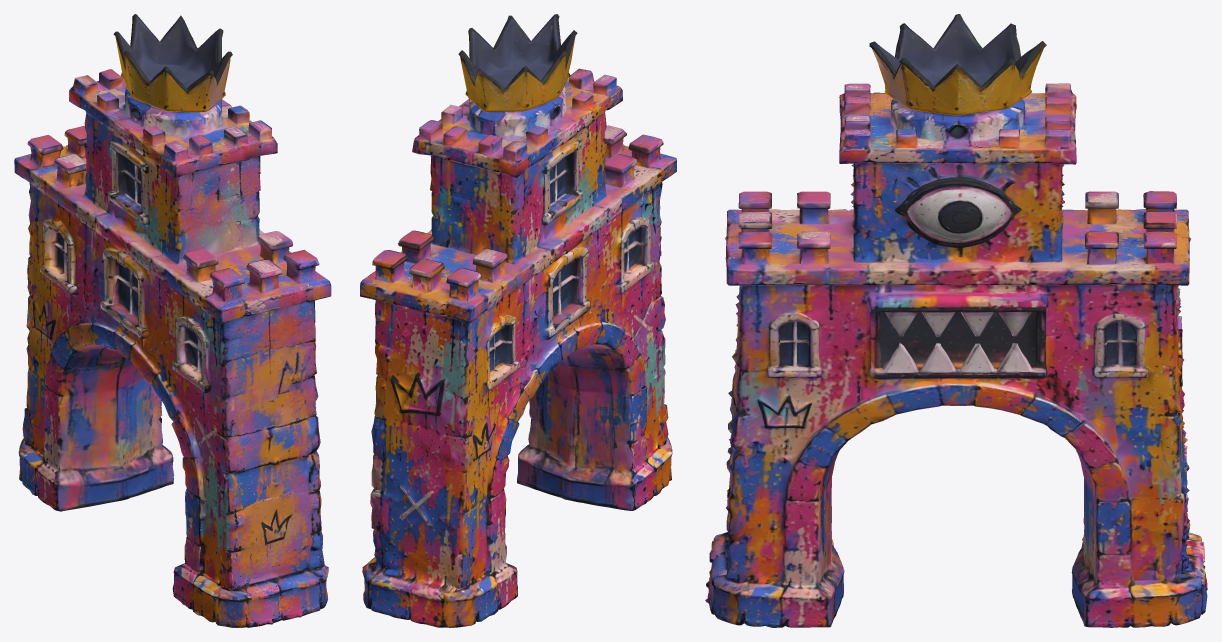
The model's file is gate_tower.glb.
The picture shows the model from 3 angles, left to right: view 1: azimuth 30°, elevation 25°; view 2: azimuth 150°, elevation 25°; view 3: azimuth 270°, elevation 25°; orthographic projection. The views are drawn at different scales.
Parts seen in each view (by area): view 1: tripo_node_beacc131-6771-4dc8-9008-1b0ab3ffa7d3; view 2: tripo_node_beacc131-6771-4dc8-9008-1b0ab3ffa7d3; view 3: tripo_node_beacc131-6771-4dc8-9008-1b0ab3ffa7d3.
Part boxes in pixels (x1,y1,x2,y2): tripo_node_beacc131-6771-4dc8-9008-1b0ab3ffa7d3: (14,14,331,627); tripo_node_beacc131-6771-4dc8-9008-1b0ab3ffa7d3: (360,14,676,627); tripo_node_beacc131-6771-4dc8-9008-1b0ab3ffa7d3: (705,14,1207,627).
Bounding box in the file's own units: 3.77 × 15 × 12.25.
Materials: 1 (1 with a texture image).
